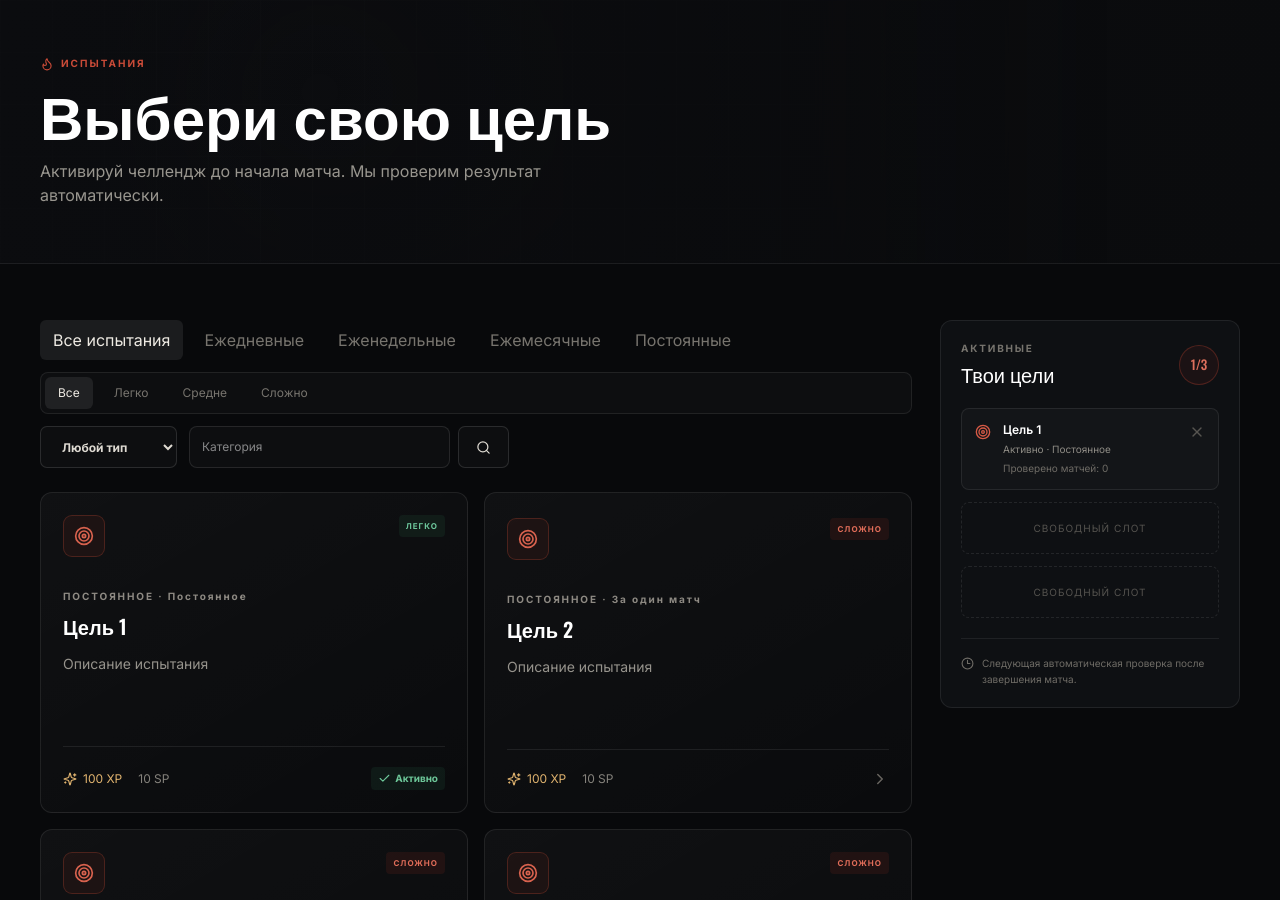
shows backend cancellation error and retains the active challenge
The image size is (1280, 900).
Check: the text "1/3" is shown, box [1179,344,1219,384]
Click the button named "Отменить": (1197, 432) [1189,424,1205,440]
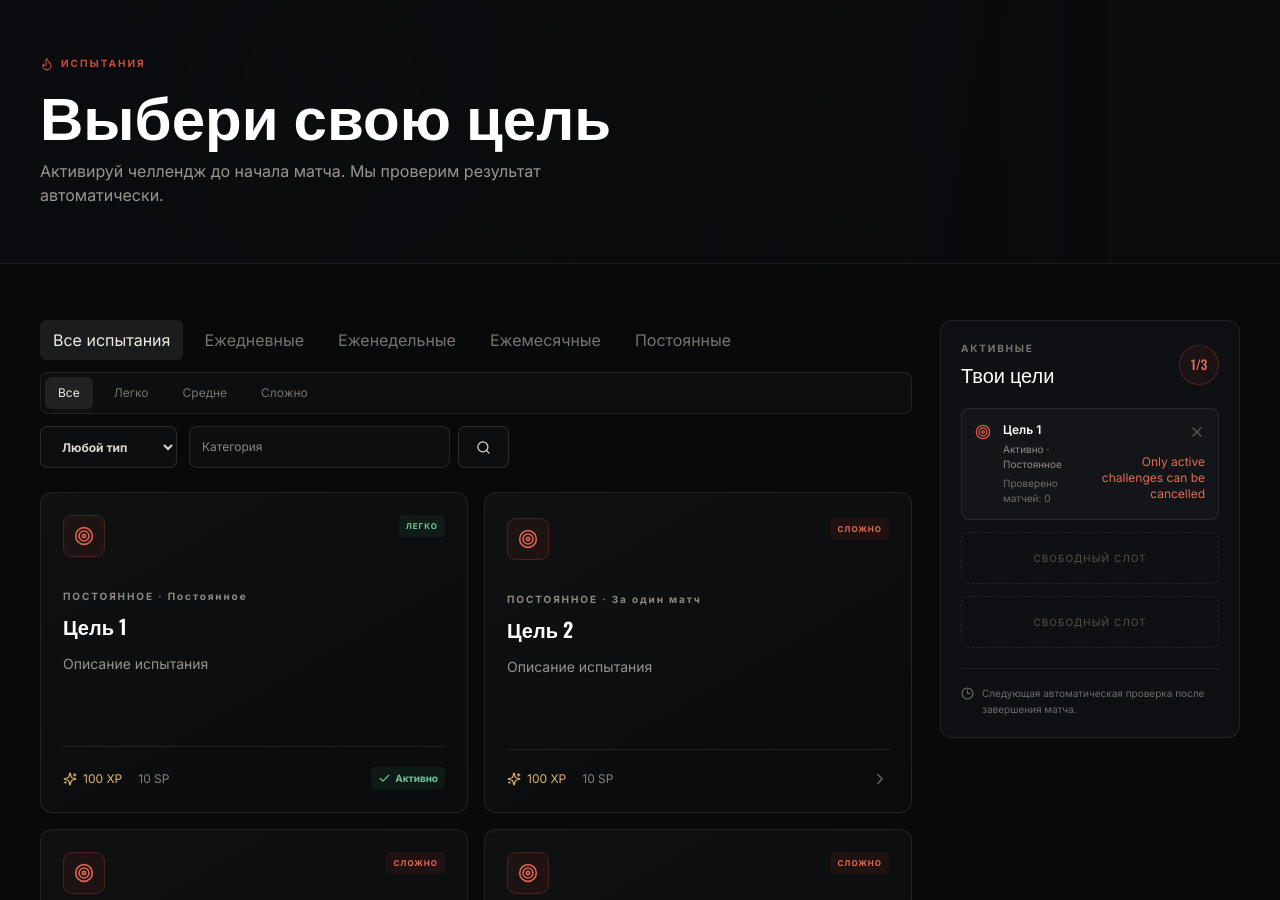
Check: the text "1/3" is shown, box [1179,344,1219,384]
Check: the message reads "Only active challenges can be cancelled", box [1102,454,1205,501]
